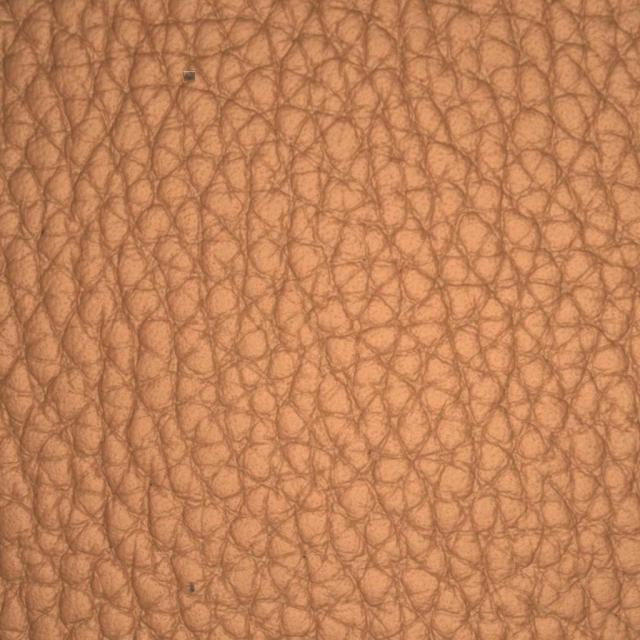pinhole: (138, 21, 252, 160)
